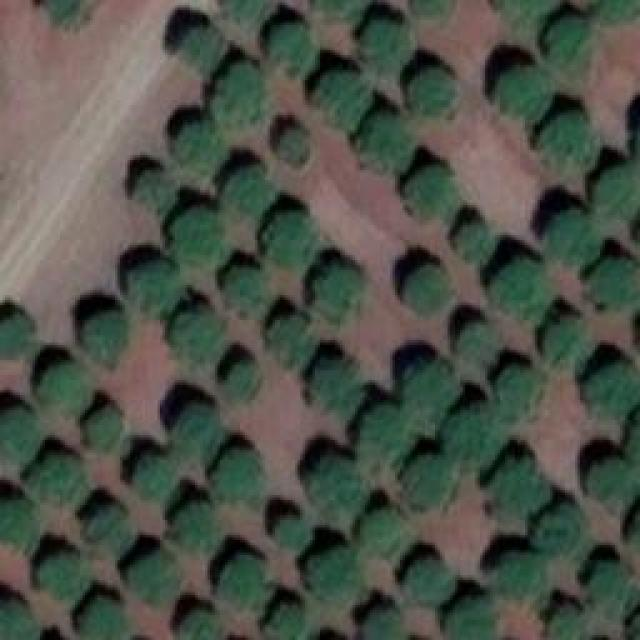Tree: (208, 63, 273, 133), (305, 457, 368, 525), (533, 110, 598, 173), (348, 110, 413, 173), (493, 455, 553, 520), (213, 555, 278, 610), (485, 550, 545, 608), (445, 412, 505, 470), (355, 20, 415, 78), (493, 65, 556, 120), (407, 67, 465, 125), (312, 70, 370, 128), (208, 448, 268, 503), (585, 362, 640, 420), (167, 205, 225, 260), (403, 455, 458, 513), (167, 120, 225, 175), (403, 170, 463, 223), (545, 13, 598, 73), (27, 455, 85, 508), (405, 362, 458, 420), (495, 252, 548, 310), (538, 503, 593, 558), (305, 550, 360, 605), (360, 408, 410, 468), (583, 563, 636, 618), (400, 558, 455, 611), (170, 403, 225, 456), (538, 318, 591, 373), (540, 213, 595, 266), (582, 258, 640, 308), (592, 165, 640, 225), (588, 455, 638, 510), (43, 365, 98, 415), (268, 215, 318, 270), (263, 313, 313, 368), (128, 450, 178, 503), (128, 263, 181, 313), (220, 168, 273, 218), (495, 363, 545, 416), (265, 23, 318, 73), (77, 505, 135, 550), (123, 552, 176, 600), (355, 508, 403, 561), (398, 265, 448, 315), (442, 597, 499, 640), (170, 500, 218, 550), (0, 405, 42, 462), (80, 312, 128, 360), (172, 310, 220, 358), (310, 267, 358, 315), (180, 25, 228, 73), (315, 358, 358, 411), (218, 270, 268, 315), (45, 0, 100, 38), (130, 170, 178, 213), (80, 408, 125, 453), (77, 597, 124, 640), (0, 500, 42, 547), (40, 553, 85, 596), (460, 322, 498, 370), (448, 223, 493, 263), (550, 602, 593, 640), (223, 363, 263, 403), (175, 607, 222, 640), (0, 597, 35, 640), (268, 605, 311, 640), (0, 312, 32, 359), (360, 607, 405, 640), (272, 125, 310, 163), (600, 0, 640, 25), (275, 515, 305, 545)
